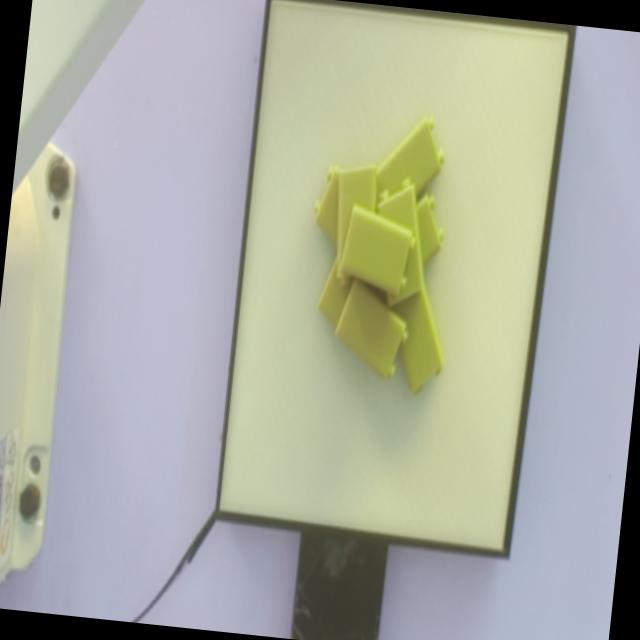bateria: (340, 204, 415, 297)
mesa: (212, 0, 575, 560)
